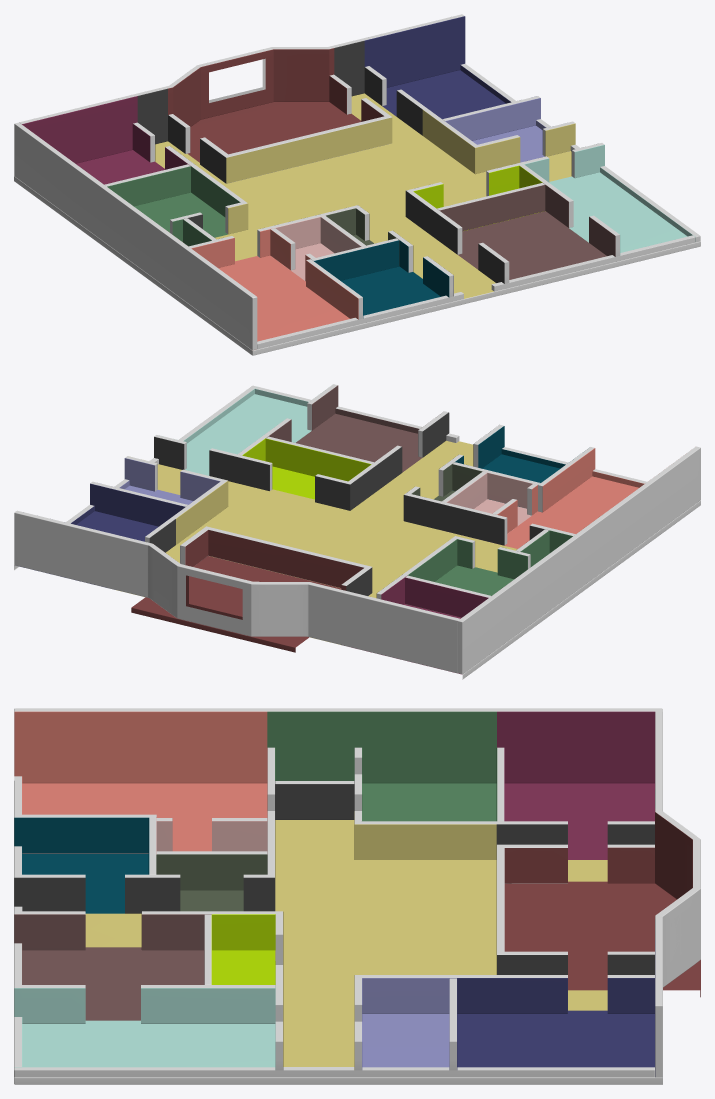
Rendered from SM_House_withStudyWindow.fbx.
3 views of the same model, one above another, from view 1: azimuth 30°, elevation 25°; view 2: azimuth 150°, elevation 25°; view 3: azimuth 270°, elevation 25° (orthographic). The views are drawn at different scales.
Parts seen in each view (by area): view 1: house; view 2: house; view 3: house.
Part boxes in pixels (left/top/right/bottom): house: left=14, top=14, right=700, bottom=355; house: left=14, top=384, right=700, bottom=679; house: left=14, top=708, right=700, bottom=1084.
Bounding box in the file's own units: 8904 × 1100 × 8686.
